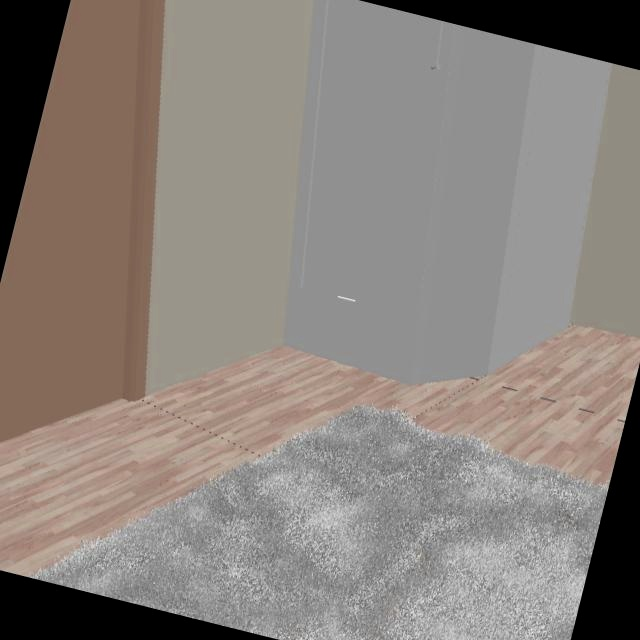shower: (283, 0, 614, 385)
